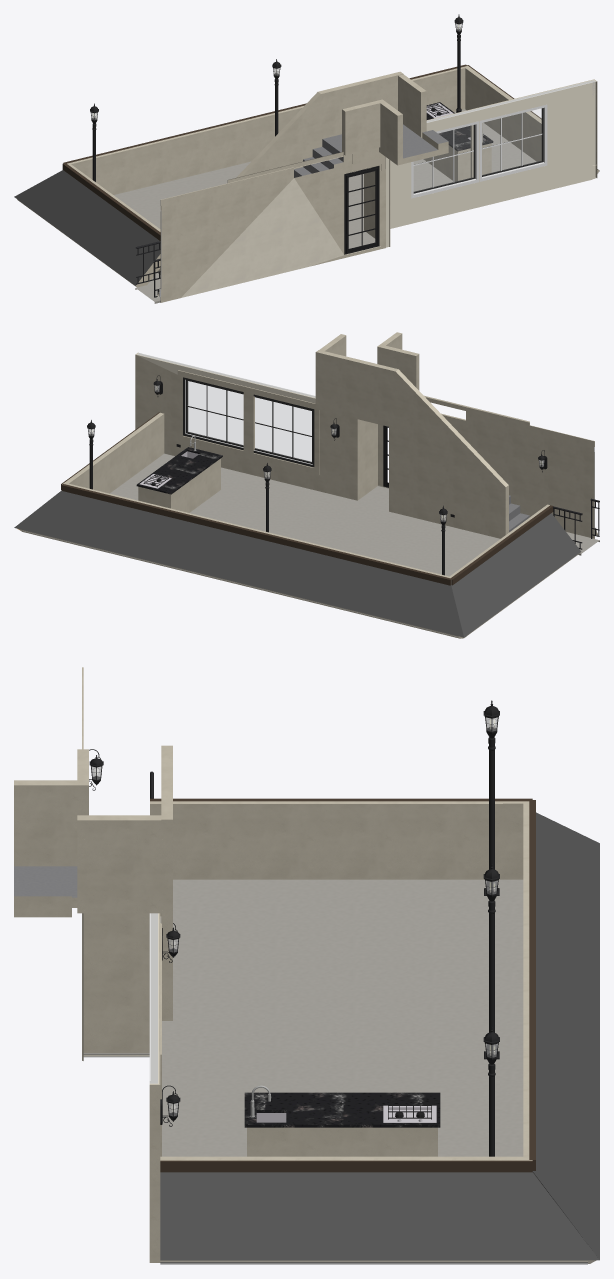
Rendered from rear-deck-72b3aa142885.glb.
3 renders of one model, top to bottom at view 1: azimuth 30°, elevation 25°; view 2: azimuth 150°, elevation 25°; view 3: azimuth 270°, elevation 25°, orthographic. The views are drawn at different scales.
Parts seen in each view (by area): view 1: rear-deck-bd62734a7bc60eb7, rear-deck-245f595ae2832e16, rear-deck-32021a86c784f0e0, rear-deck-36ed5266b1bc40cd, rear-deck-ded88bd99590d377, rear-deck-0ec1696dfdc5a594, rear-deck-cdd3b97a7e9637be, rear-deck-85ede138eeba504d, rear-deck-dd55bfb54febbe8b, rear-deck-0c482424d83488a1, rear-deck-349532b1b0dc1c99, rear-deck-17ef890320a61aef (+12 smaller); view 2: rear-deck-5febae1537653d02, rear-deck-0ec1696dfdc5a594, rear-deck-ded88bd99590d377, rear-deck-bd62734a7bc60eb7, rear-deck-245f595ae2832e16, rear-deck-36ed5266b1bc40cd, rear-deck-cdd3b97a7e9637be, rear-deck-85ede138eeba504d, rear-deck-dd55bfb54febbe8b, rear-deck-d7a70b5818f54477, rear-deck-b5f10ab9081c9955, rear-deck-90ab9089a9e1325b (+8 smaller); view 3: rear-deck-ded88bd99590d377, rear-deck-0e7e1de83ff8e24c, rear-deck-18b8f93424e26a44, rear-deck-5febae1537653d02, rear-deck-6b027cd2e6bc0d64, rear-deck-349532b1b0dc1c99, rear-deck-17ef890320a61aef, rear-deck-385241de3d752b47, rear-deck-b5f10ab9081c9955, rear-deck-5e5272df00660e4c, rear-deck-0ec1696dfdc5a594, rear-deck-d7a70b5818f54477 (+12 smaller).
Part boxes in pixels (x1,y1,x2,y2): rear-deck-bd62734a7bc60eb7: (160, 147, 390, 302); rear-deck-245f595ae2832e16: (364, 79, 595, 230); rear-deck-32021a86c784f0e0: (67, 66, 465, 194); rear-deck-36ed5266b1bc40cd: (14, 170, 160, 285); rear-deck-ded88bd99590d377: (114, 109, 536, 300); rear-deck-0ec1696dfdc5a594: (236, 71, 403, 177); rear-deck-cdd3b97a7e9637be: (479, 104, 547, 181); rear-deck-85ede138eeba504d: (411, 121, 478, 198); rear-deck-dd55bfb54febbe8b: (465, 65, 541, 161); rear-deck-0c482424d83488a1: (342, 101, 380, 155); rear-deck-349532b1b0dc1c99: (398, 74, 426, 137); rear-deck-17ef890320a61aef: (377, 99, 402, 165); rear-deck-5febae1537653d02: (14, 490, 463, 637); rear-deck-0ec1696dfdc5a594: (315, 350, 508, 538); rear-deck-ded88bd99590d377: (110, 453, 594, 576); rear-deck-bd62734a7bc60eb7: (378, 411, 594, 538); rear-deck-245f595ae2832e16: (135, 353, 357, 500); rear-deck-36ed5266b1bc40cd: (451, 513, 581, 637); rear-deck-cdd3b97a7e9637be: (183, 377, 243, 449); rear-deck-85ede138eeba504d: (253, 394, 314, 467); rear-deck-dd55bfb54febbe8b: (62, 412, 164, 493); rear-deck-d7a70b5818f54477: (61, 484, 450, 585); rear-deck-b5f10ab9081c9955: (138, 458, 220, 512); rear-deck-90ab9089a9e1325b: (243, 386, 319, 474); rear-deck-ded88bd99590d377: (83, 879, 523, 1156); rear-deck-0e7e1de83ff8e24c: (160, 1172, 599, 1260); rear-deck-18b8f93424e26a44: (150, 801, 528, 879); rear-deck-5febae1537653d02: (532, 812, 599, 1259); rear-deck-6b027cd2e6bc0d64: (83, 913, 149, 1052); rear-deck-349532b1b0dc1c99: (77, 815, 161, 913); rear-deck-17ef890320a61aef: (14, 780, 88, 866); rear-deck-385241de3d752b47: (244, 1092, 440, 1127); rear-deck-b5f10ab9081c9955: (247, 1127, 437, 1156); rear-deck-5e5272df00660e4c: (160, 1160, 532, 1172); rear-deck-0ec1696dfdc5a594: (161, 745, 172, 1020); rear-deck-d7a70b5818f54477: (529, 800, 535, 1170).
Size of the model in its own units: 12.61 by 3.84 by 7.49.
Materials: 30 (5 with a texture image).
